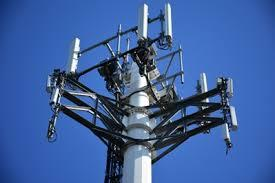antenna: (63, 36, 88, 75), (195, 72, 210, 104), (137, 0, 148, 42), (226, 103, 239, 132), (165, 1, 174, 41), (224, 124, 235, 151), (49, 87, 60, 111)
